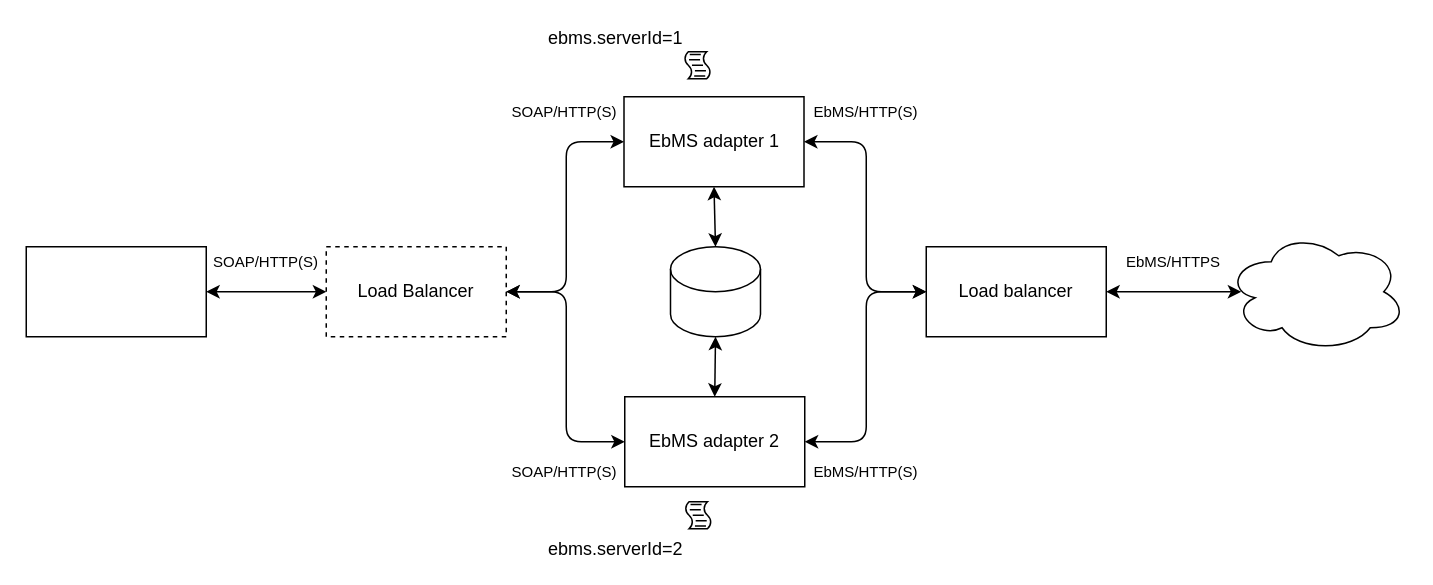
This 1433x585 diagram has some shape labels left out. Here are the shapes that lost their labels. From the top down, the box of each, then its label:
(25, 245, 206, 337): Application
(669, 245, 760, 337): EbMS DB
